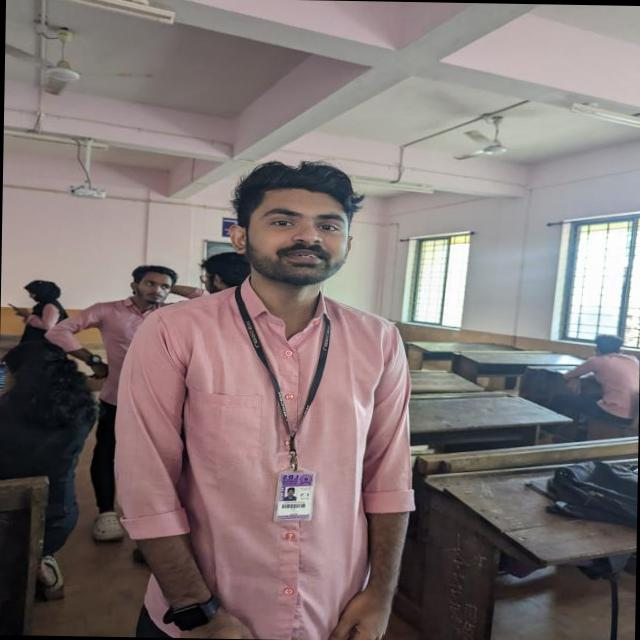id_card: (239, 298, 334, 523)
